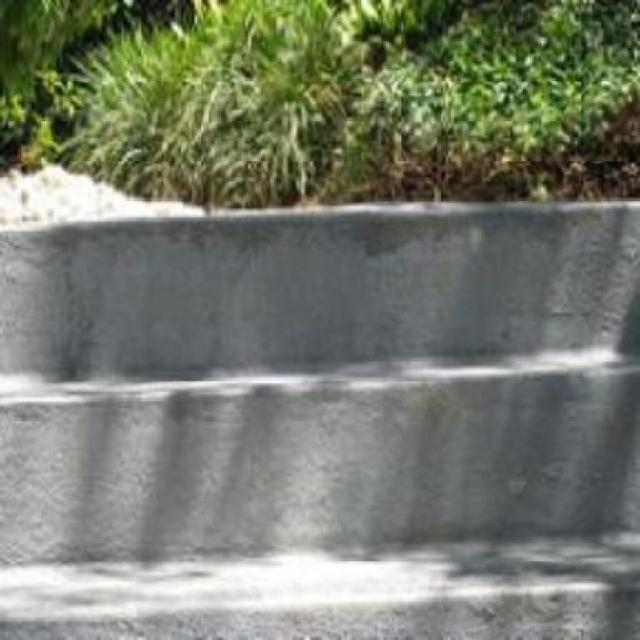stair: (6, 204, 640, 640)
